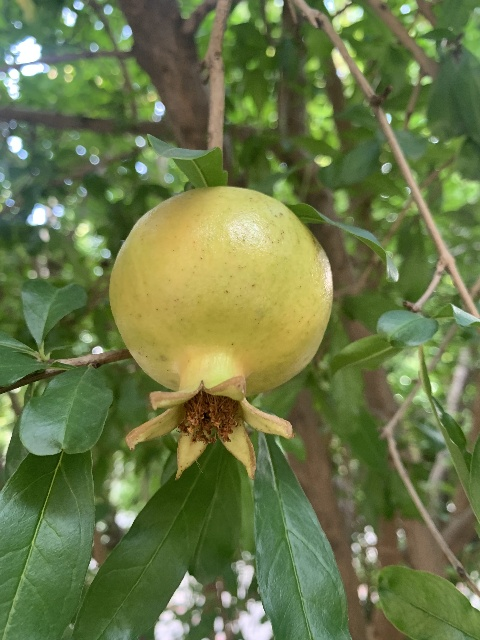mid-growth: (109, 184, 333, 484)
